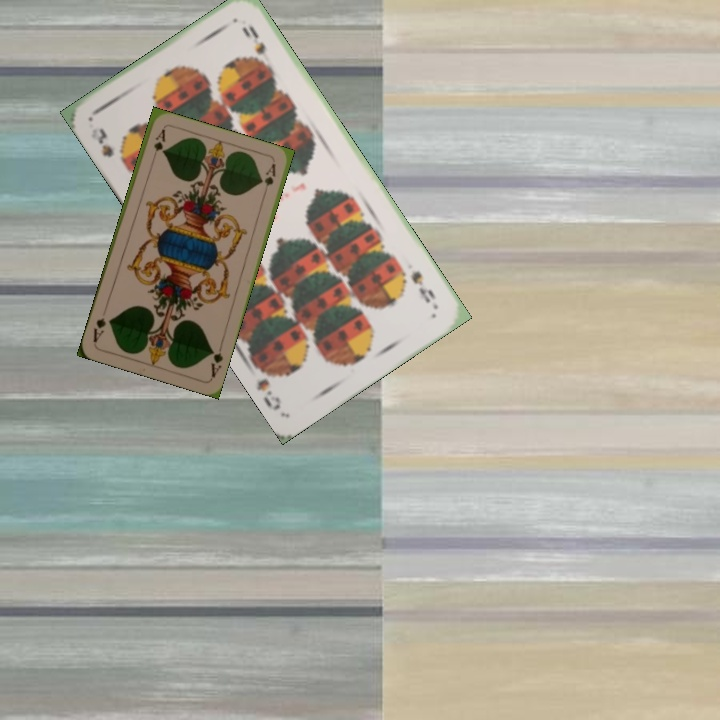GA: (147, 125, 168, 165), (206, 340, 226, 380)
S9: (93, 123, 130, 169), (407, 266, 439, 306)
